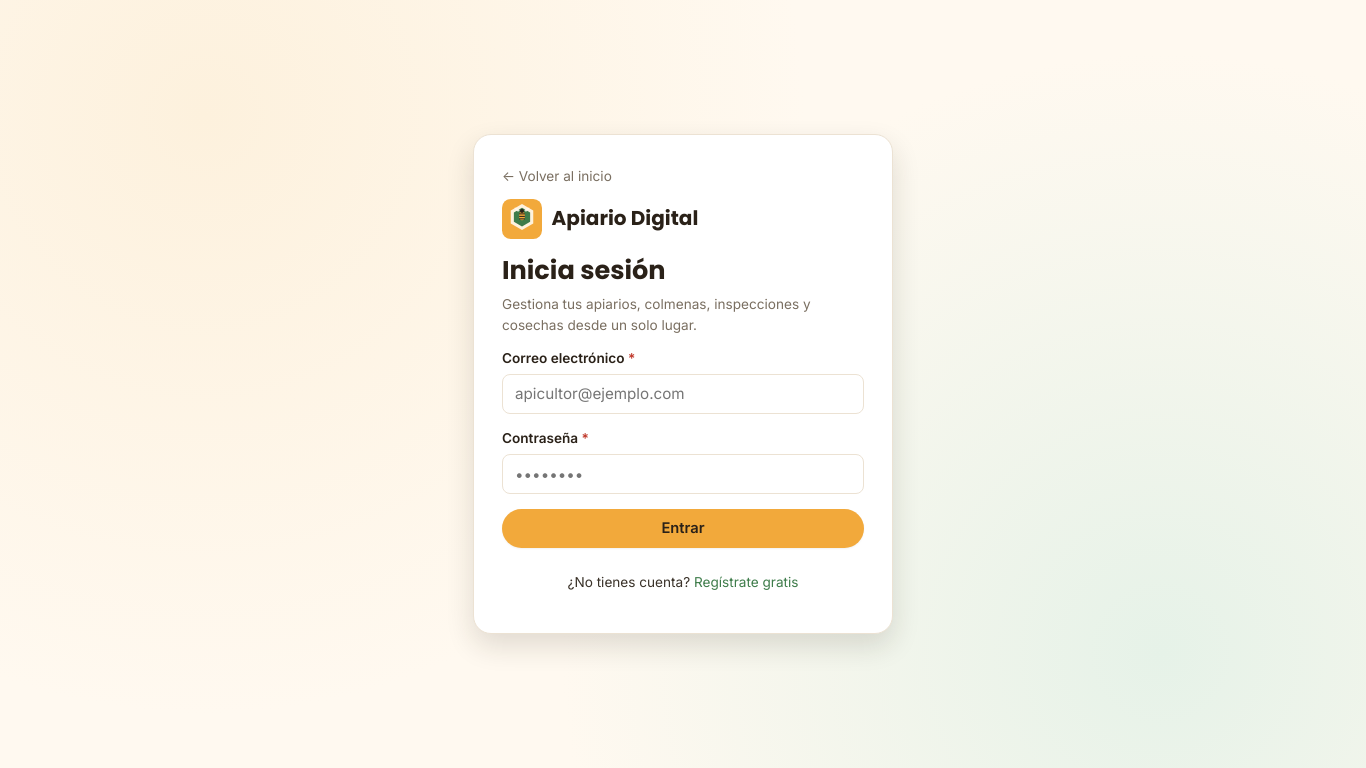
it: Página Login › muestra errores de validación cuando se envía vacío
Step 1. Click the button "Entrar" → {"x": 683, "y": 528}, box [502, 509, 864, 548]
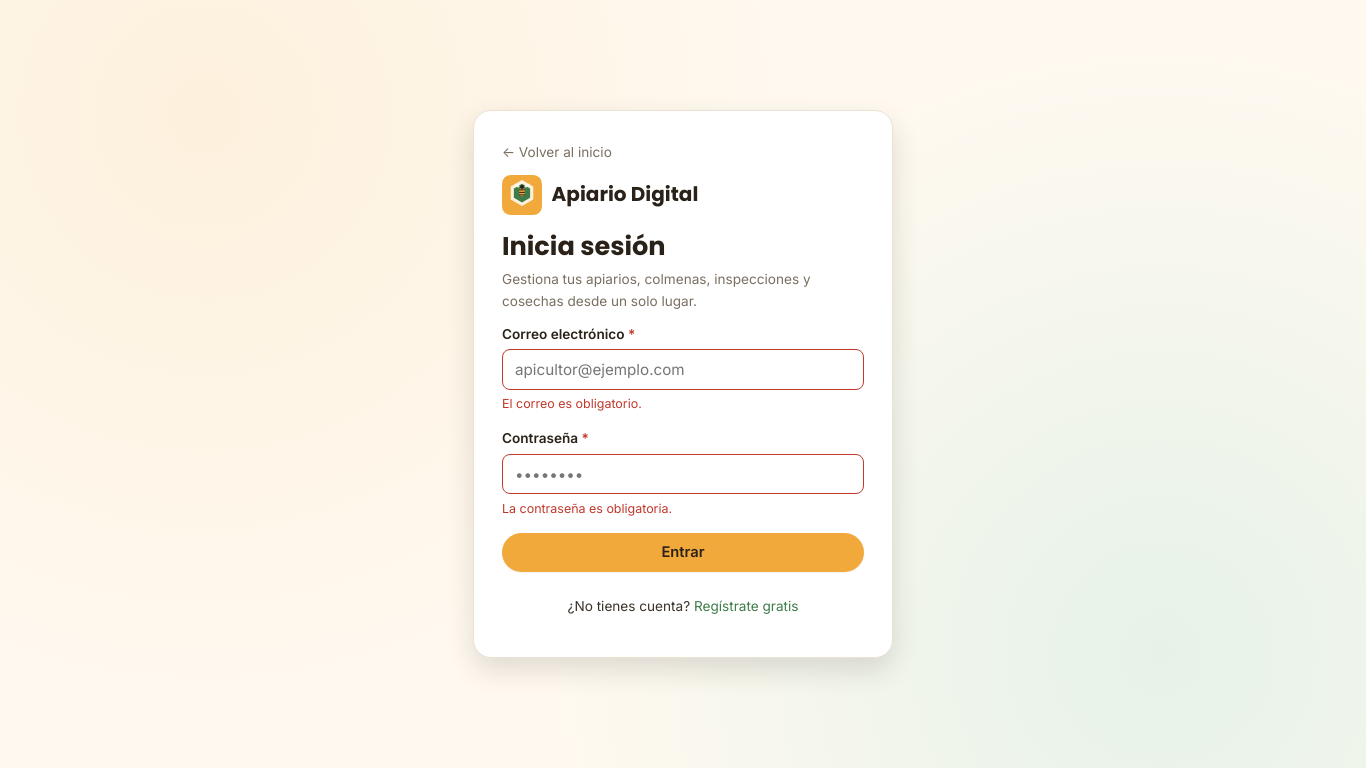
expect the text "El correo es obligatorio." is shown: met, box [502, 396, 642, 411]
expect the text "La contraseña es obligatoria." is shown: met, box [502, 501, 672, 516]
